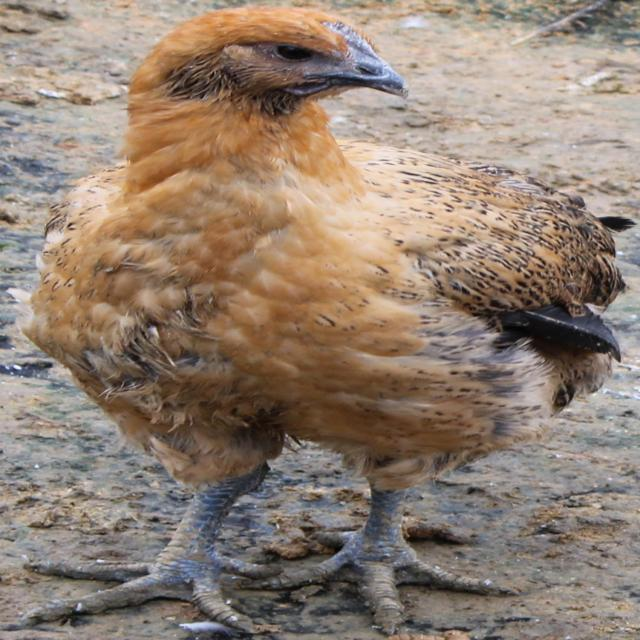hen: (16, 0, 638, 640)
